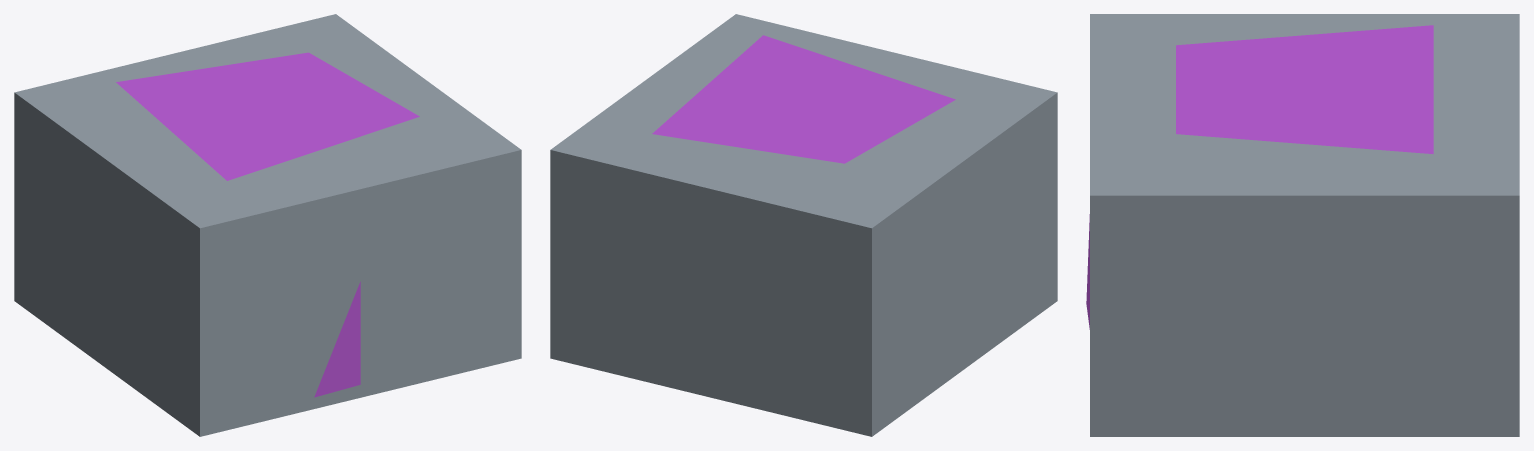
Rendered from CH_EchoTurret_LOD1.glb.
3 views of the same model, side by side, from view 1: azimuth 30°, elevation 25°; view 2: azimuth 150°, elevation 25°; view 3: azimuth 270°, elevation 25° (orthographic). The views are drawn at different scales.
Visible parts, largest first — view 1: EntranceGate; view 2: EntranceGate; view 3: EntranceGate.
Part boxes in pixels (bbox=[...]): EntranceGate: bbox=[14, 14, 521, 436]; EntranceGate: bbox=[550, 14, 1057, 436]; EntranceGate: bbox=[1086, 14, 1519, 436].
Bounding box in the file's own units: 400 × 274 × 403.
